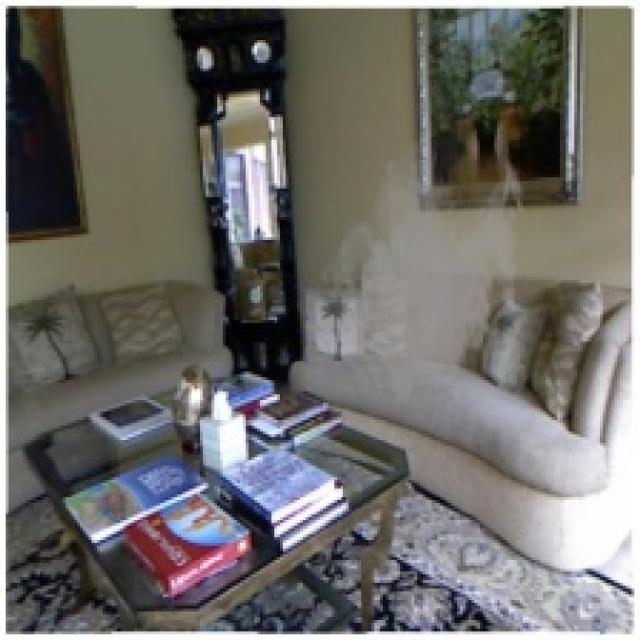smoke: (317, 123, 529, 406)
